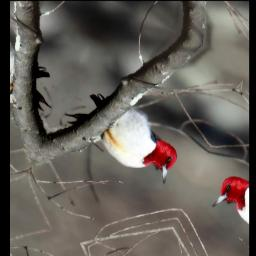Woodpecker: (51, 78, 190, 188)
